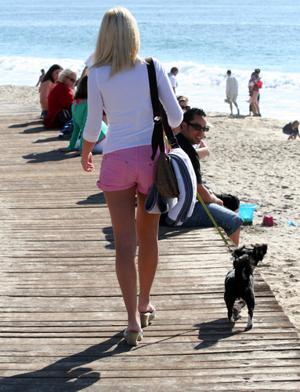person: (81, 9, 183, 343)
